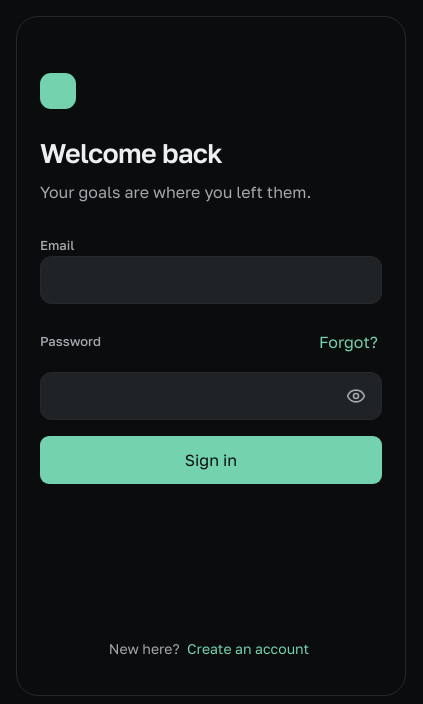
M1 web identity flows › recovers from an unexpected sign-in network failure without locking the form
In the field labelled "Email": (211, 280) [40,256,382,304], type "alex@example.com"
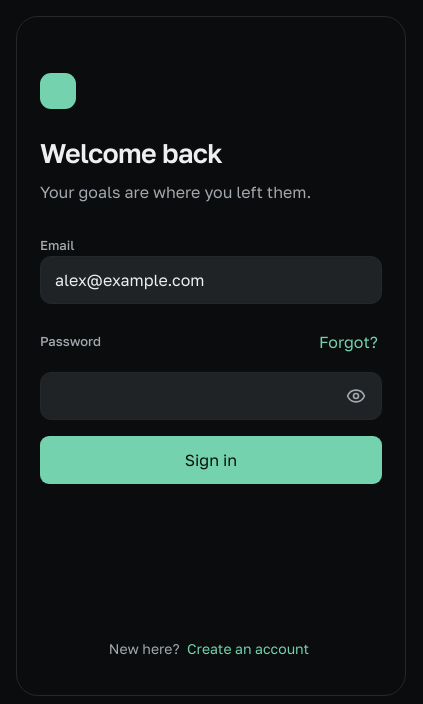
In the password field labelled "Password": (211, 396) [40,372,382,420], type "still-here"
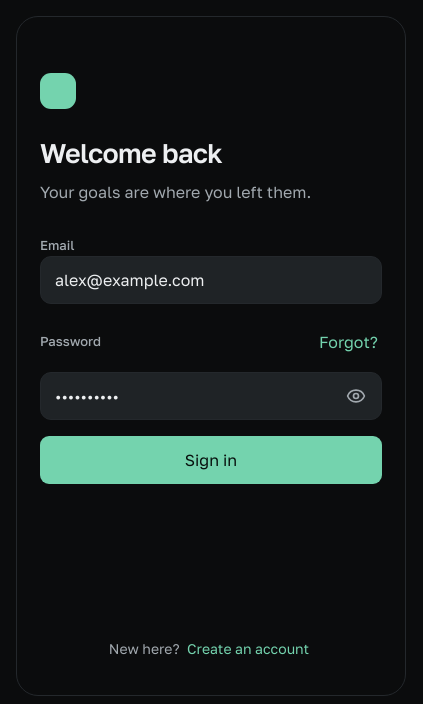
Click the button "Sign in": (211, 460) [40,436,382,484]
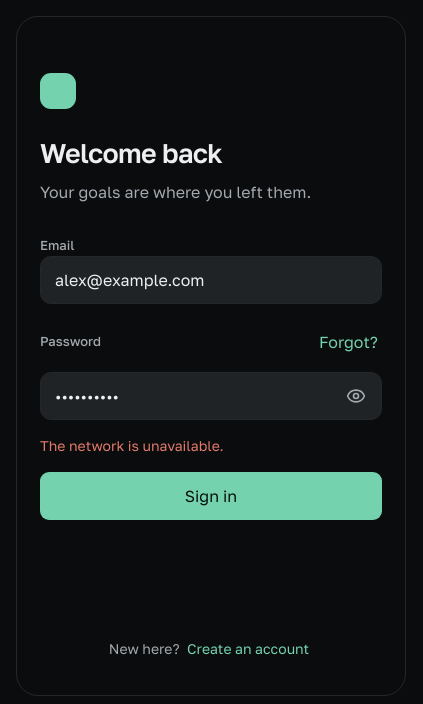
Expected: the button "Sign in" is enabled, [40,472,382,520]
Expected: the message reads "The network is unavailable.", [40,436,224,454]
